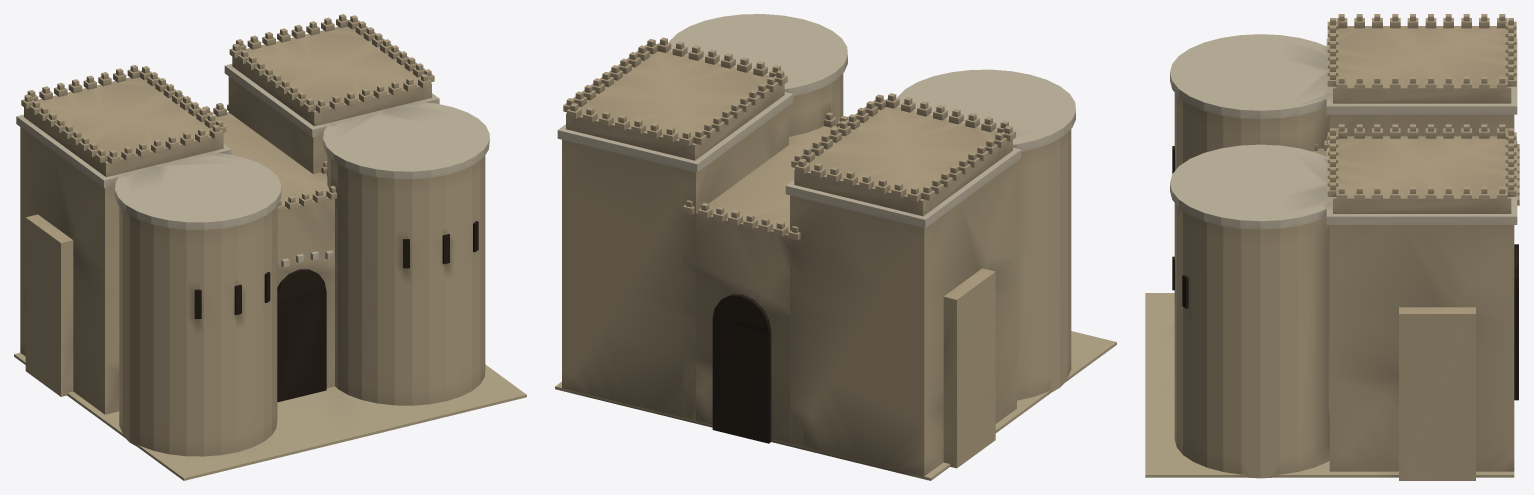
Rendered from bab-al-futuh.glb.
3 views of the same model, side by side, from view 1: azimuth 30°, elevation 25°; view 2: azimuth 150°, elevation 25°; view 3: azimuth 270°, elevation 25° (orthographic). The views are drawn at different scales.
Visible parts, largest first — view 1: p1_gate, p2_parapets, p0_ground; view 2: p1_gate, p2_parapets, p0_ground; view 3: p1_gate, p2_parapets, p0_ground.
Part boxes in pixels (x1=…): p1_gate: x1=16, y1=64, x2=489, y2=456; p2_parapets: x1=21, y1=14, x2=434, y2=212; p0_ground: x1=14, y1=214, x2=526, y2=480; p1_gate: x1=557, y1=14, x2=1075, y2=476; p2_parapets: x1=563, y1=37, x2=1015, y2=240; p0_ground: x1=555, y1=268, x2=1116, y2=480; p1_gate: x1=1170, y1=34, x2=1518, y2=478; p2_parapets: x1=1314, y1=14, x2=1519, y2=213; p0_ground: x1=1145, y1=293, x2=1514, y2=480.
Size of the model in its own units: 29 by 20.47 by 24.35.
